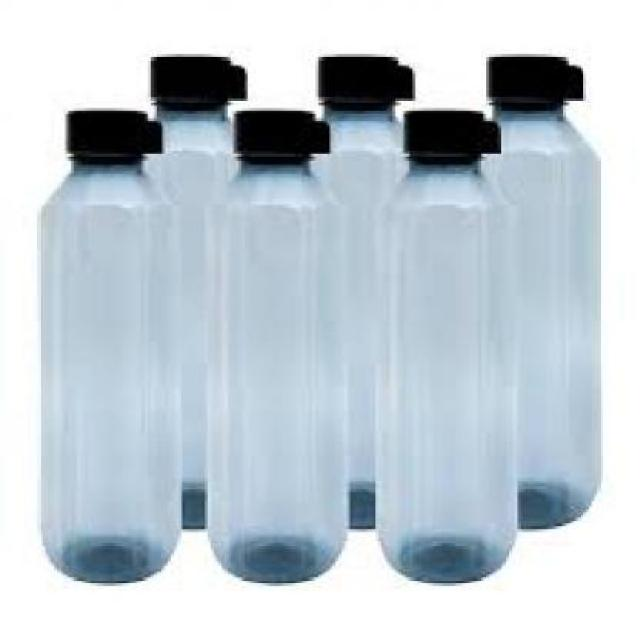Drinking: (9, 91, 196, 614), (365, 91, 529, 609), (208, 88, 355, 609)
